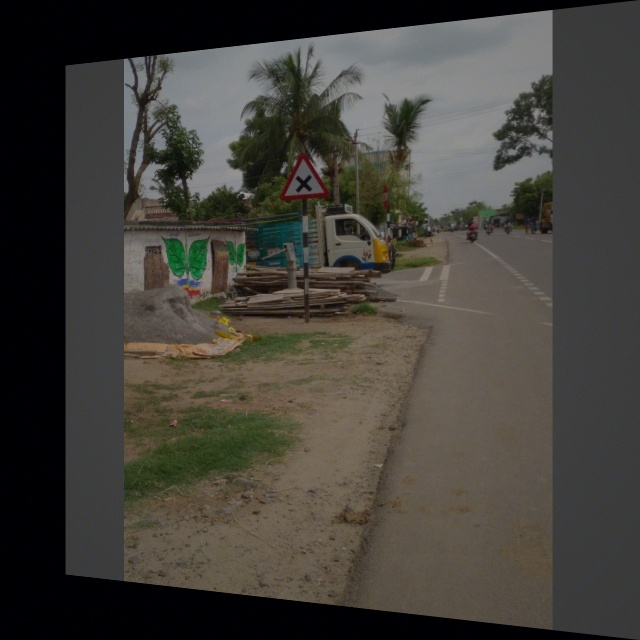Cross_Road: (277, 148, 331, 202)
